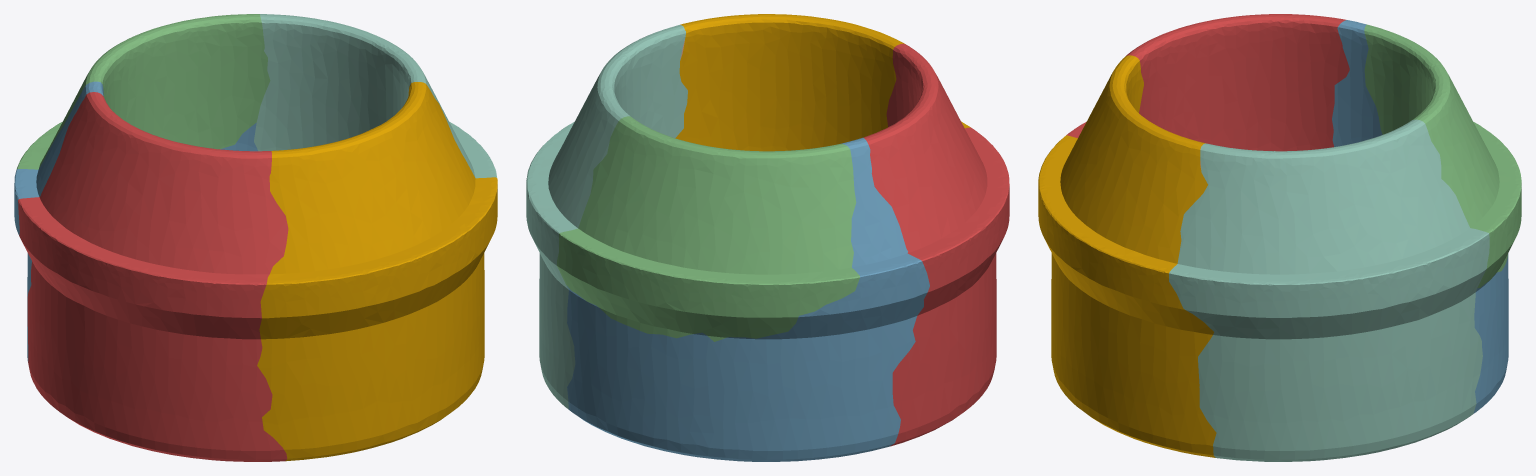
Rendered from mode_5_8pcs.glb.
The picture shows the model from 3 angles, left to right: view 1: azimuth 30°, elevation 25°; view 2: azimuth 150°, elevation 25°; view 3: azimuth 270°, elevation 25°; orthographic projection.
Parts seen in each view (by area): view 1: piece_1.obj, piece_0.obj, piece_3.obj, piece_4.obj, piece_2.obj; view 2: piece_2.obj, piece_3.obj, piece_1.obj, piece_0.obj, piece_4.obj; view 3: piece_4.obj, piece_0.obj, piece_1.obj, piece_3.obj, piece_2.obj.
Boxes of the visible parts, box(x1,y1,x2,y2) form: piece_1.obj: box(18, 92, 288, 461); piece_0.obj: box(257, 82, 497, 461); piece_3.obj: box(17, 14, 270, 169); piece_4.obj: box(254, 14, 496, 178); piece_2.obj: box(14, 81, 257, 361); piece_2.obj: box(567, 137, 929, 461); piece_3.obj: box(556, 116, 859, 341); piece_1.obj: box(863, 43, 1009, 446); piece_0.obj: box(675, 14, 970, 151); piece_4.obj: box(526, 25, 687, 409); piece_4.obj: box(1169, 119, 1489, 461); piece_0.obj: box(1038, 55, 1216, 457); piece_1.obj: box(1066, 14, 1349, 151); piece_3.obj: box(1364, 24, 1521, 288); piece_2.obj: box(1332, 20, 1508, 413).
Bounding box in the file's own units: 1 × 0.6569 × 1.
